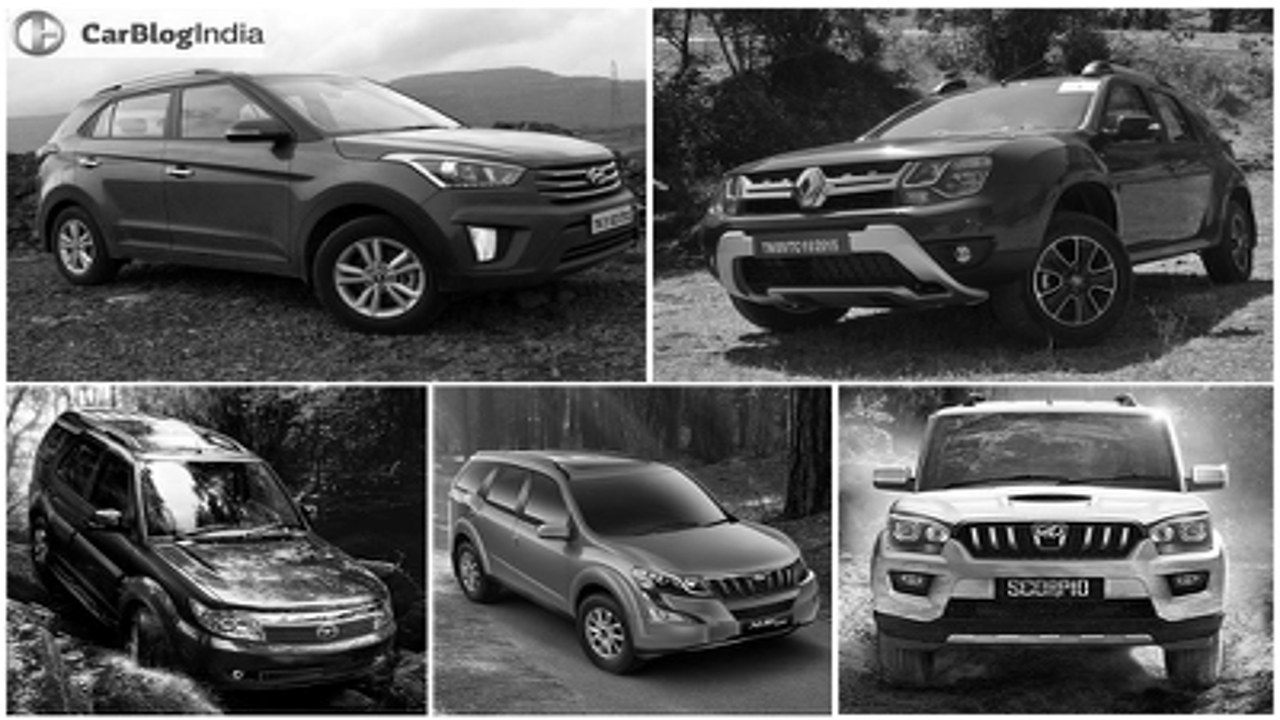license: (986, 573, 1109, 604), (751, 226, 852, 259), (589, 201, 637, 236), (735, 615, 799, 634)
